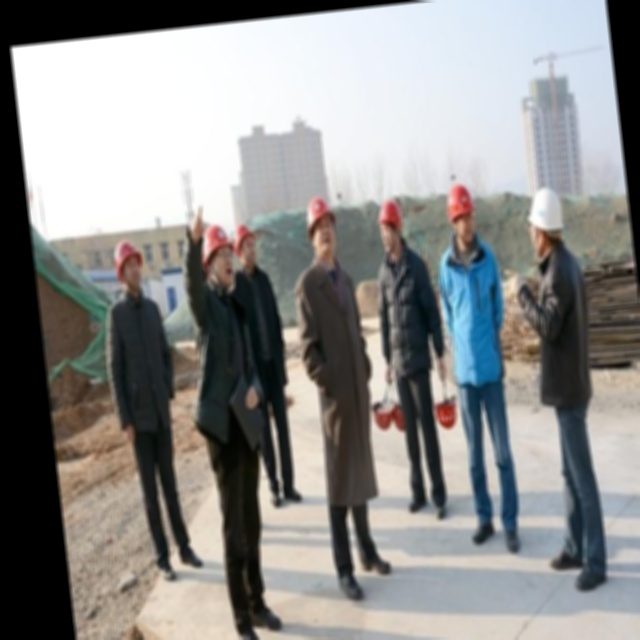Con_Casco: (525, 186, 568, 259), (444, 182, 478, 245)
Sin_Chaleco: (290, 256, 370, 423), (105, 291, 175, 428)
